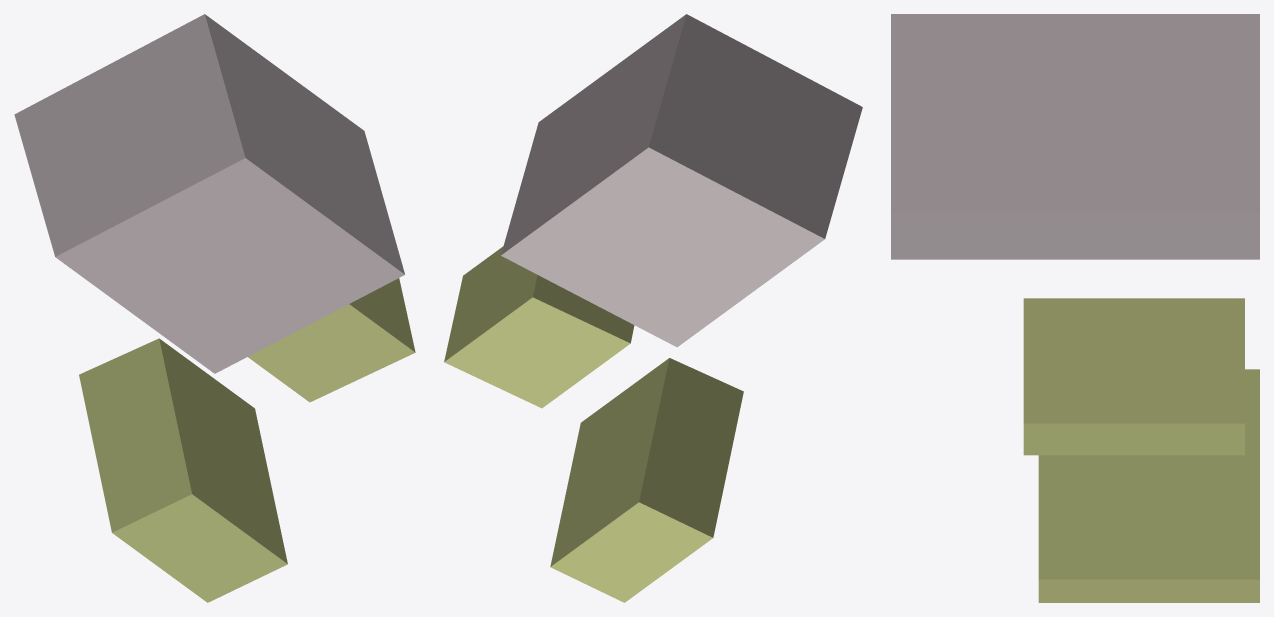
The picture shows the model from 3 angles, left to right: view 1: azimuth 30°, elevation 25°; view 2: azimuth 150°, elevation 25°; view 3: azimuth 270°, elevation 25°; orthographic projection. The views are drawn at different scales.
Parts seen in each view (by area): view 1: 0_1_3_2_2_1_2_2_0_2; view 2: 0_1_3_2_2_1_2_2_0_2; view 3: 0_1_3_2_2_1_2_2_0_2.
Boxes of the visible parts, x1=… form: 0_1_3_2_2_1_2_2_0_2: x1=14, y1=14, x2=415, y2=602; 0_1_3_2_2_1_2_2_0_2: x1=444, y1=14, x2=862, y2=602; 0_1_3_2_2_1_2_2_0_2: x1=891, y1=14, x2=1259, y2=602.
Bounding box in the file's own units: 16.21 × 25.71 × 15.
